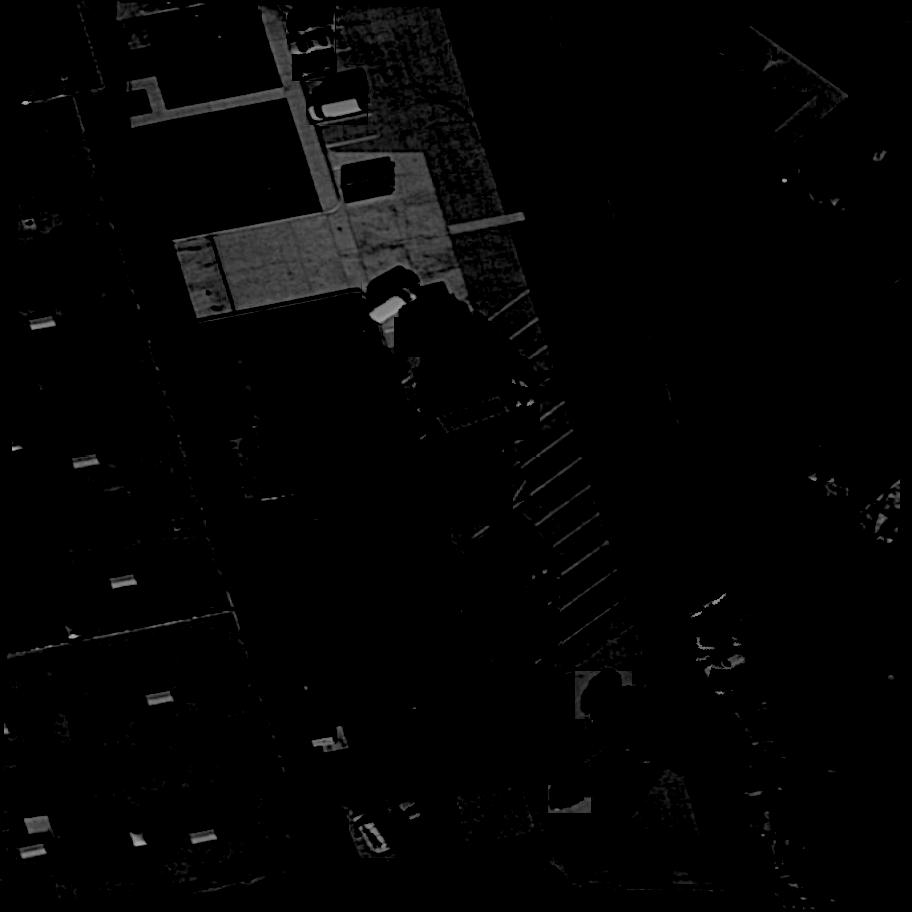large-vehicle: (428, 431, 516, 531), (423, 343, 508, 439), (467, 586, 560, 665), (463, 555, 553, 633), (430, 386, 541, 443), (394, 316, 470, 359)
small-vehicle: (392, 791, 457, 861), (610, 703, 668, 760), (362, 280, 422, 332), (575, 668, 632, 722), (594, 684, 644, 745), (679, 581, 740, 629), (350, 805, 398, 862), (698, 646, 759, 689), (634, 728, 687, 772), (457, 487, 510, 528), (496, 686, 549, 725), (307, 94, 368, 126), (818, 387, 861, 428), (811, 181, 857, 218), (844, 415, 887, 453), (690, 634, 753, 659), (287, 11, 336, 40), (549, 783, 591, 815), (287, 32, 336, 58), (292, 54, 337, 82), (709, 679, 762, 702), (808, 441, 835, 484)
